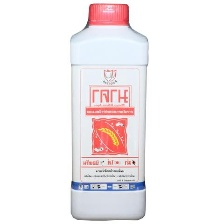insecticide: (67, 1, 153, 223)
